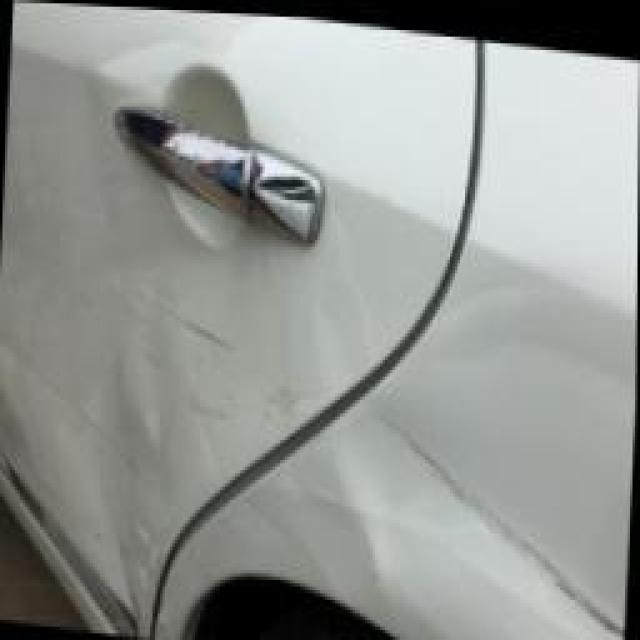Door: (0, 44, 466, 634)
Fender: (140, 413, 626, 640)
